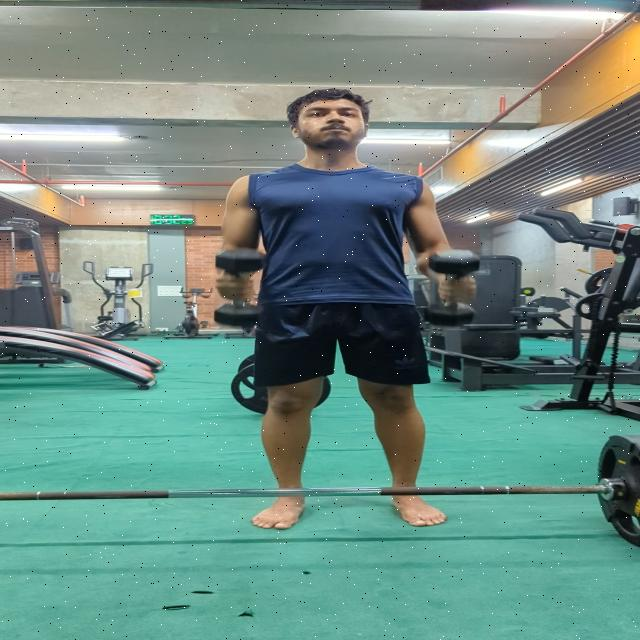Normal_DumbbellBicepCurls: (194, 81, 495, 536)
